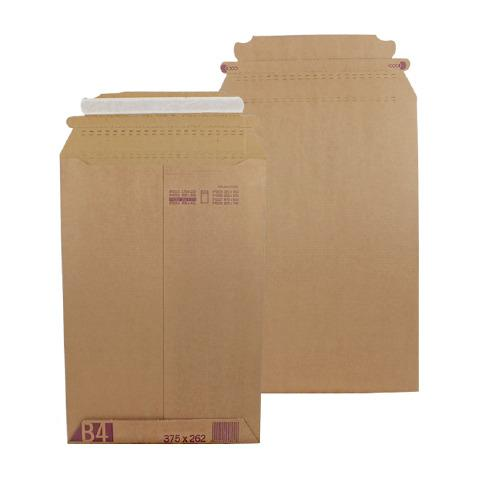plastic: (59, 92, 265, 442), (218, 35, 419, 391)
